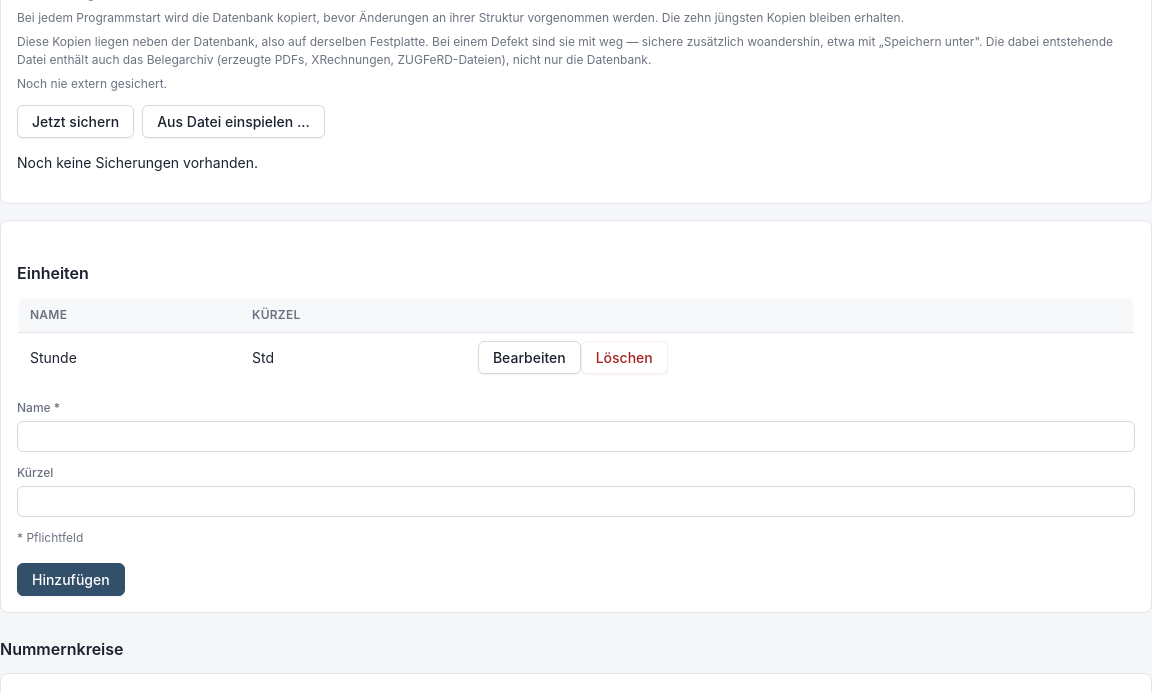
Test: Einstellungen › zeigt nach dem Löschen einer Einheit einen Erfolgs-Hinweis
(page scrolled)
Click the button "Löschen": (624, 358) [581,341,668,374]
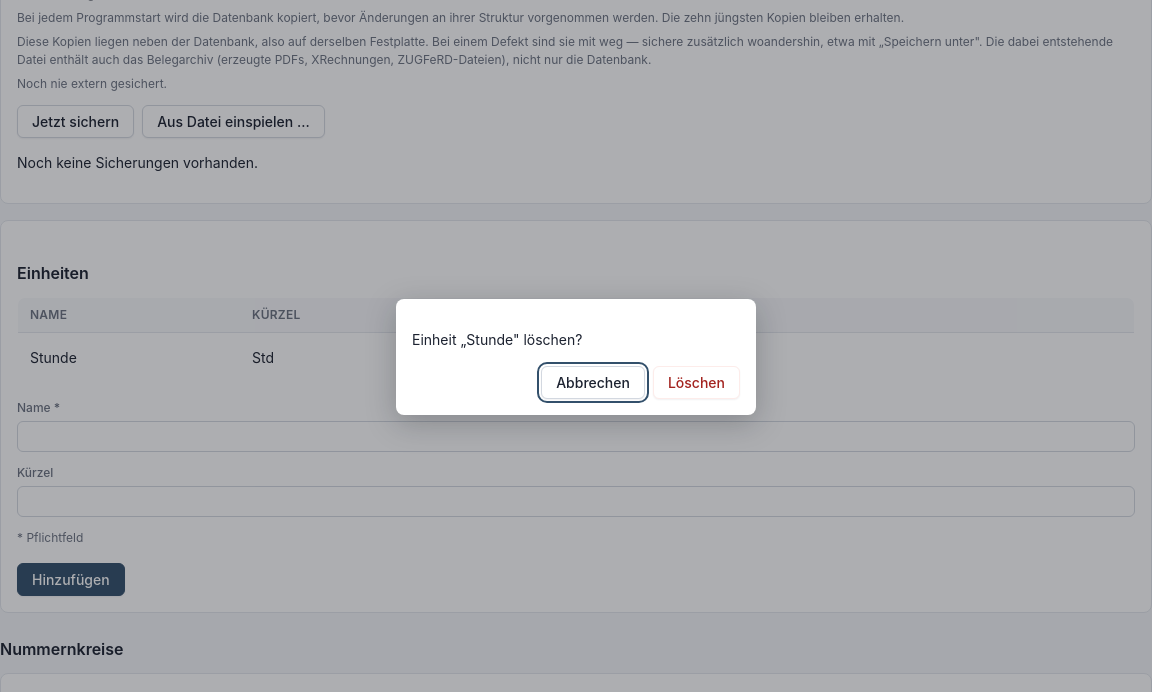
Now the text "Einheit „Stunde\" löschen?" is shown, box [412,331,582,348]
Click the button "Löschen": (696, 382) [653,366,740,399]
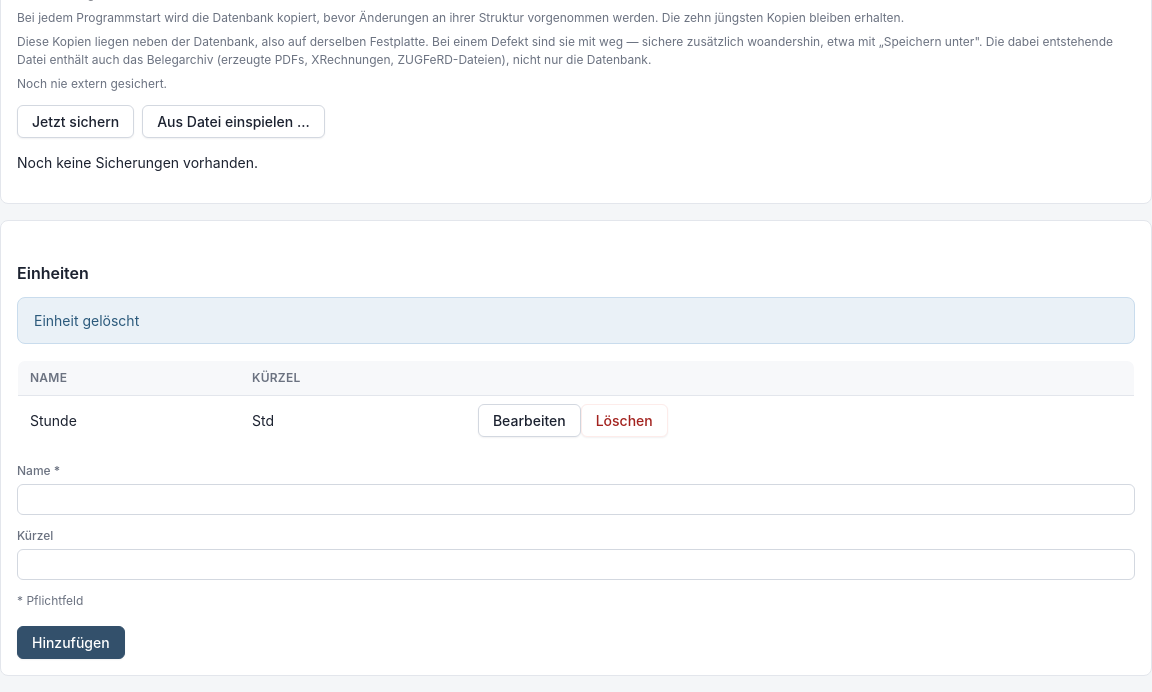
Now the text "Einheit gelöscht" is shown, box [34,310,139,331]
